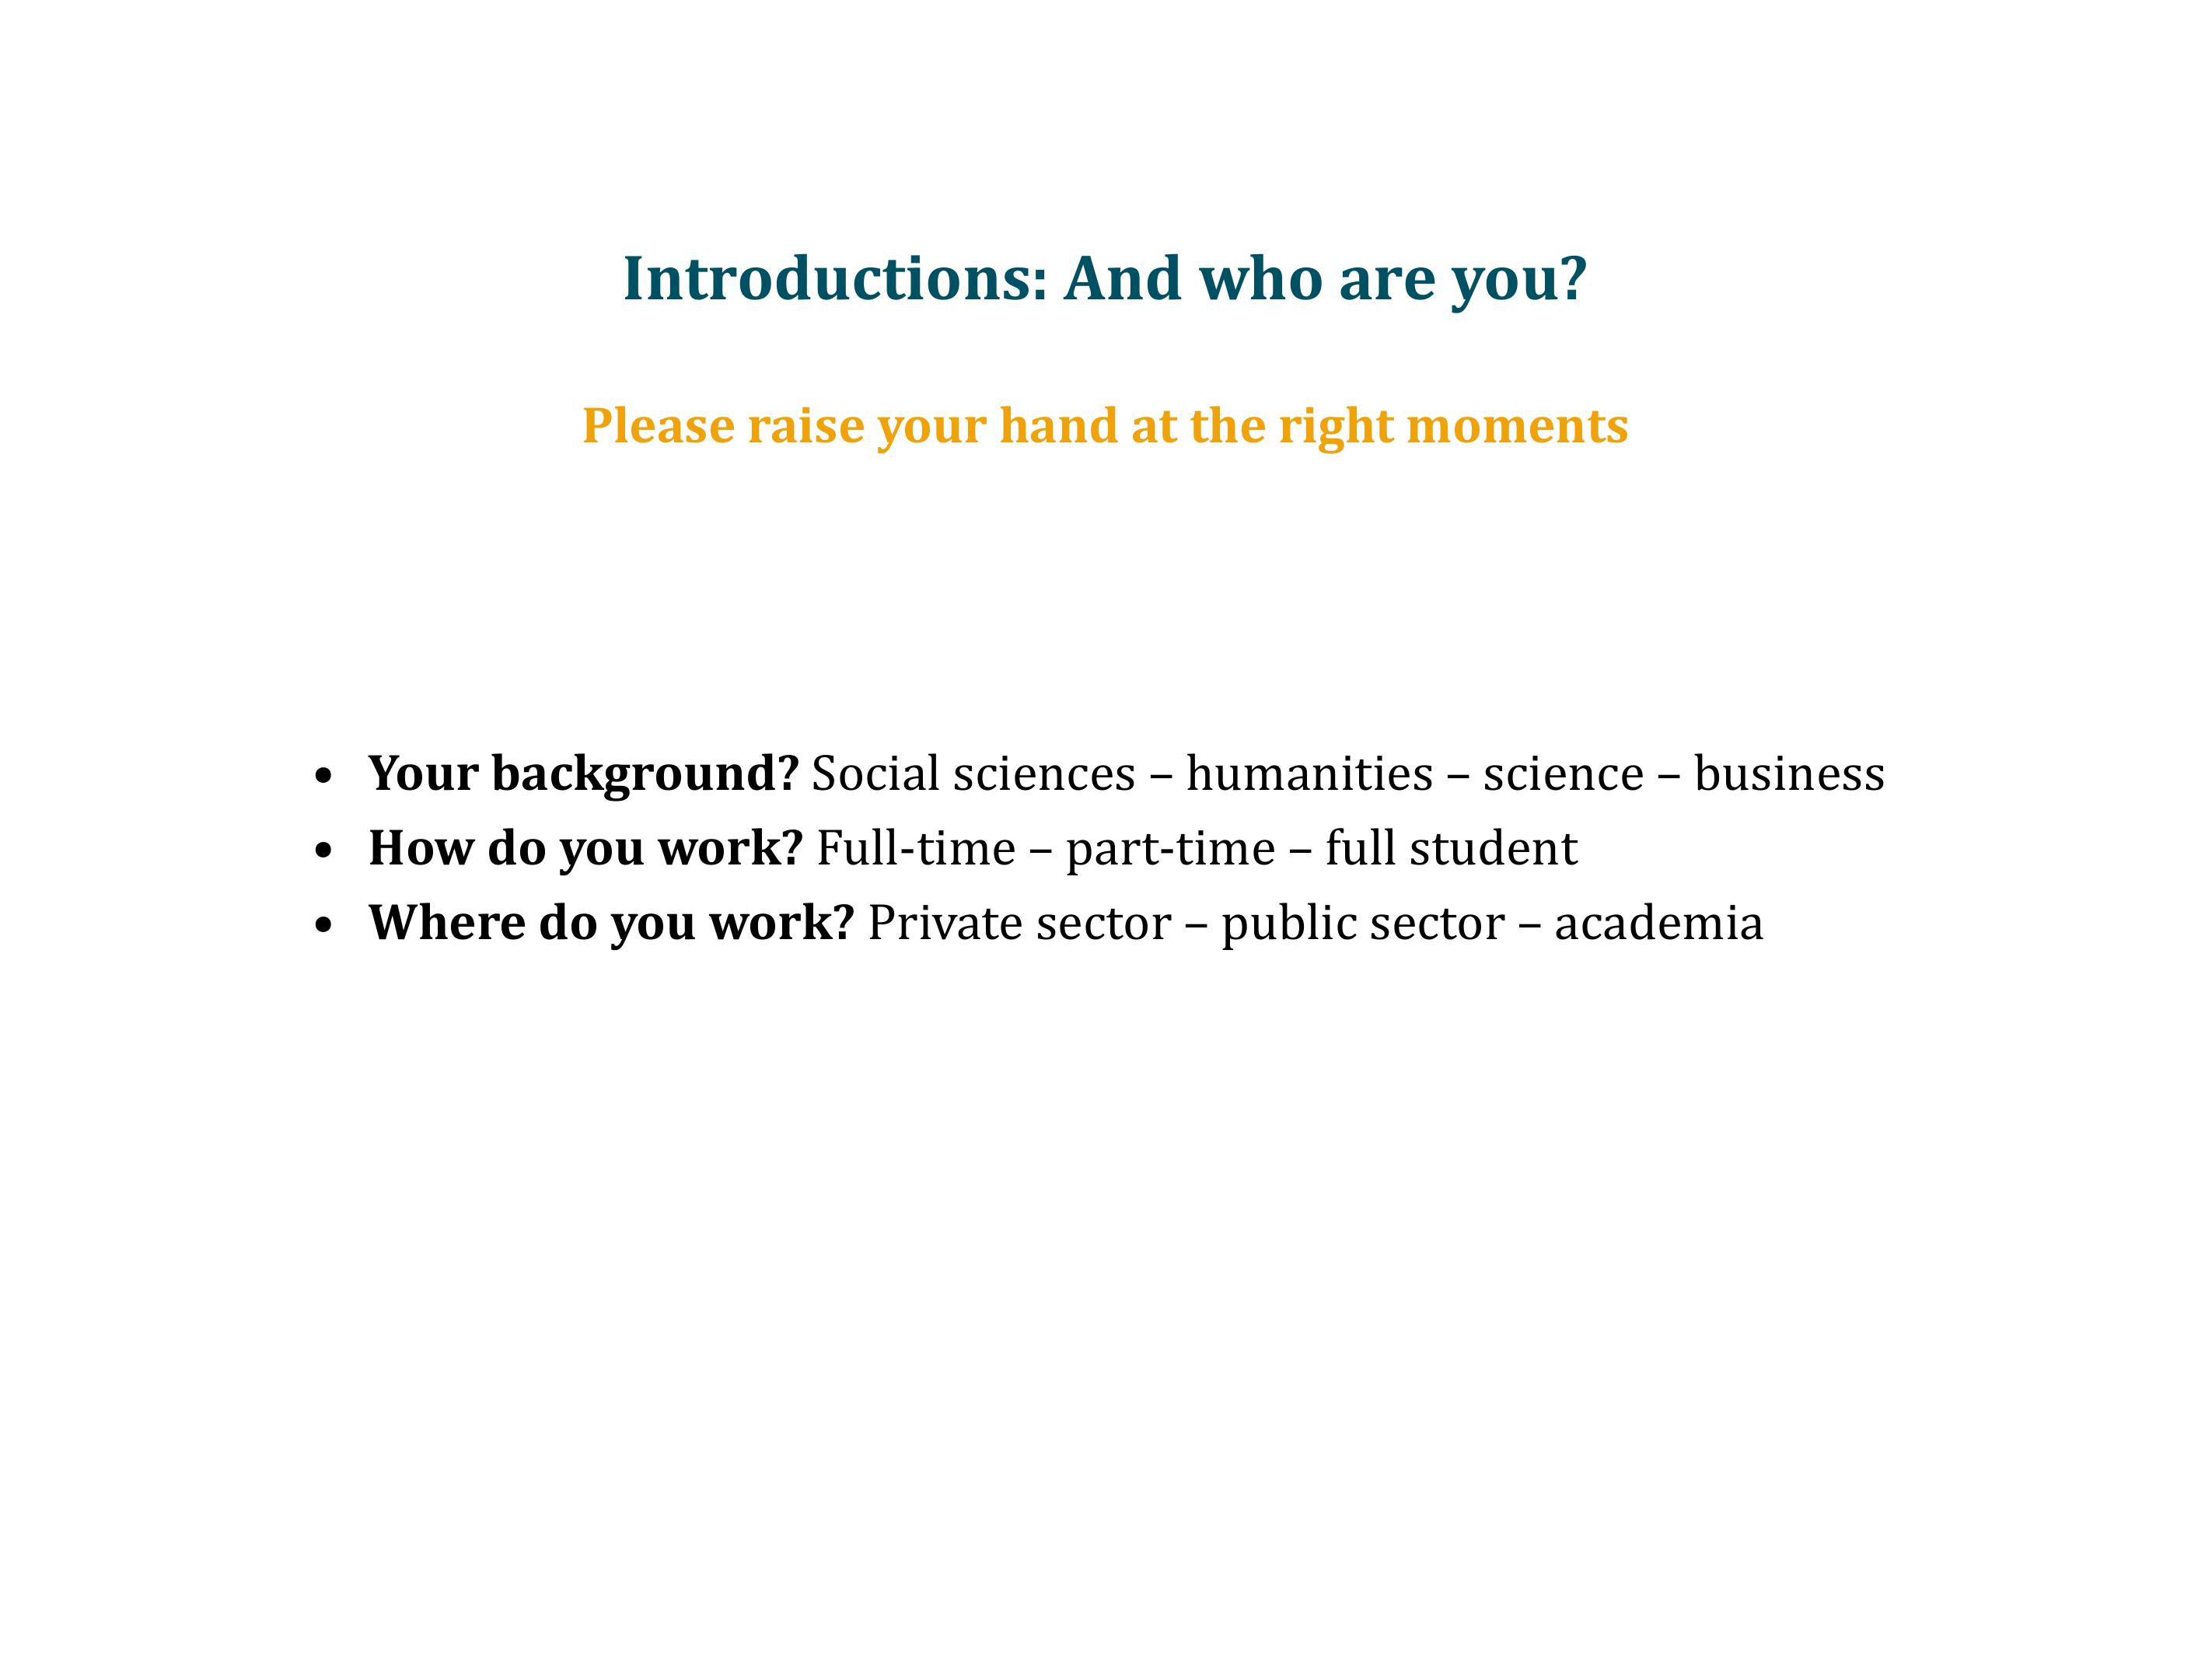Title: (612, 207, 1604, 328)
